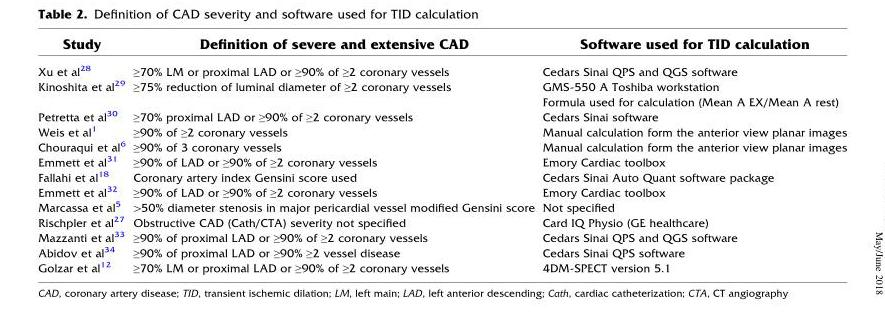table: (38, 36, 847, 273)
table column: (128, 36, 538, 273), (538, 36, 847, 273), (38, 36, 128, 273)
table column header: (38, 36, 847, 57)
table row: (38, 78, 847, 108), (38, 36, 847, 57), (38, 57, 847, 78), (38, 153, 847, 169), (38, 108, 847, 123), (38, 123, 847, 138), (38, 138, 847, 153), (38, 169, 847, 184), (38, 184, 847, 199), (38, 199, 847, 214), (38, 214, 847, 229), (38, 229, 847, 244), (38, 244, 847, 259), (38, 259, 847, 273)
